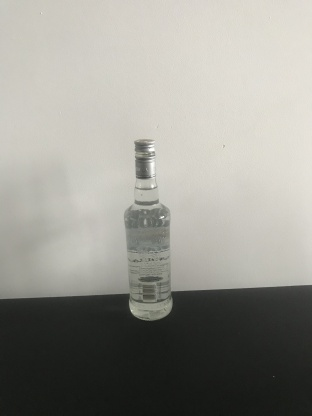nakretka: (132, 138, 156, 179)
